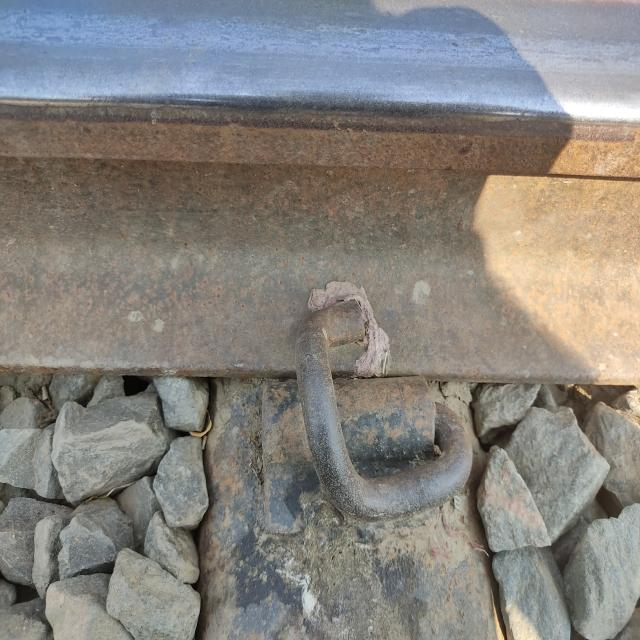No Fault: (264, 314, 474, 520)
